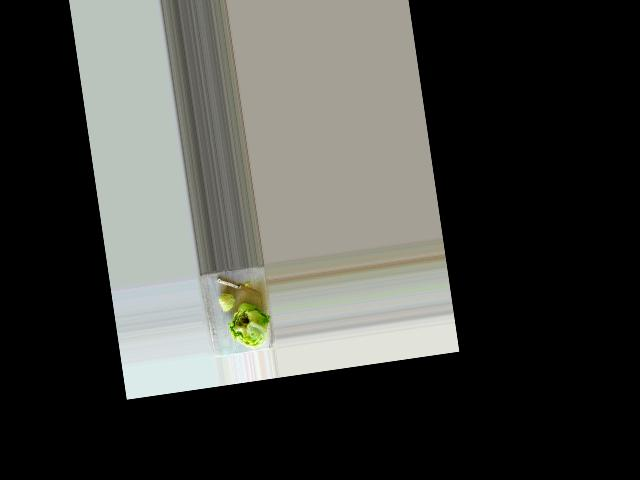lettuce: (226, 304, 272, 353)
